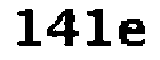1: (85, 7, 113, 49), (16, 7, 42, 49)
4: (46, 6, 83, 51)
e: (118, 16, 149, 50)
